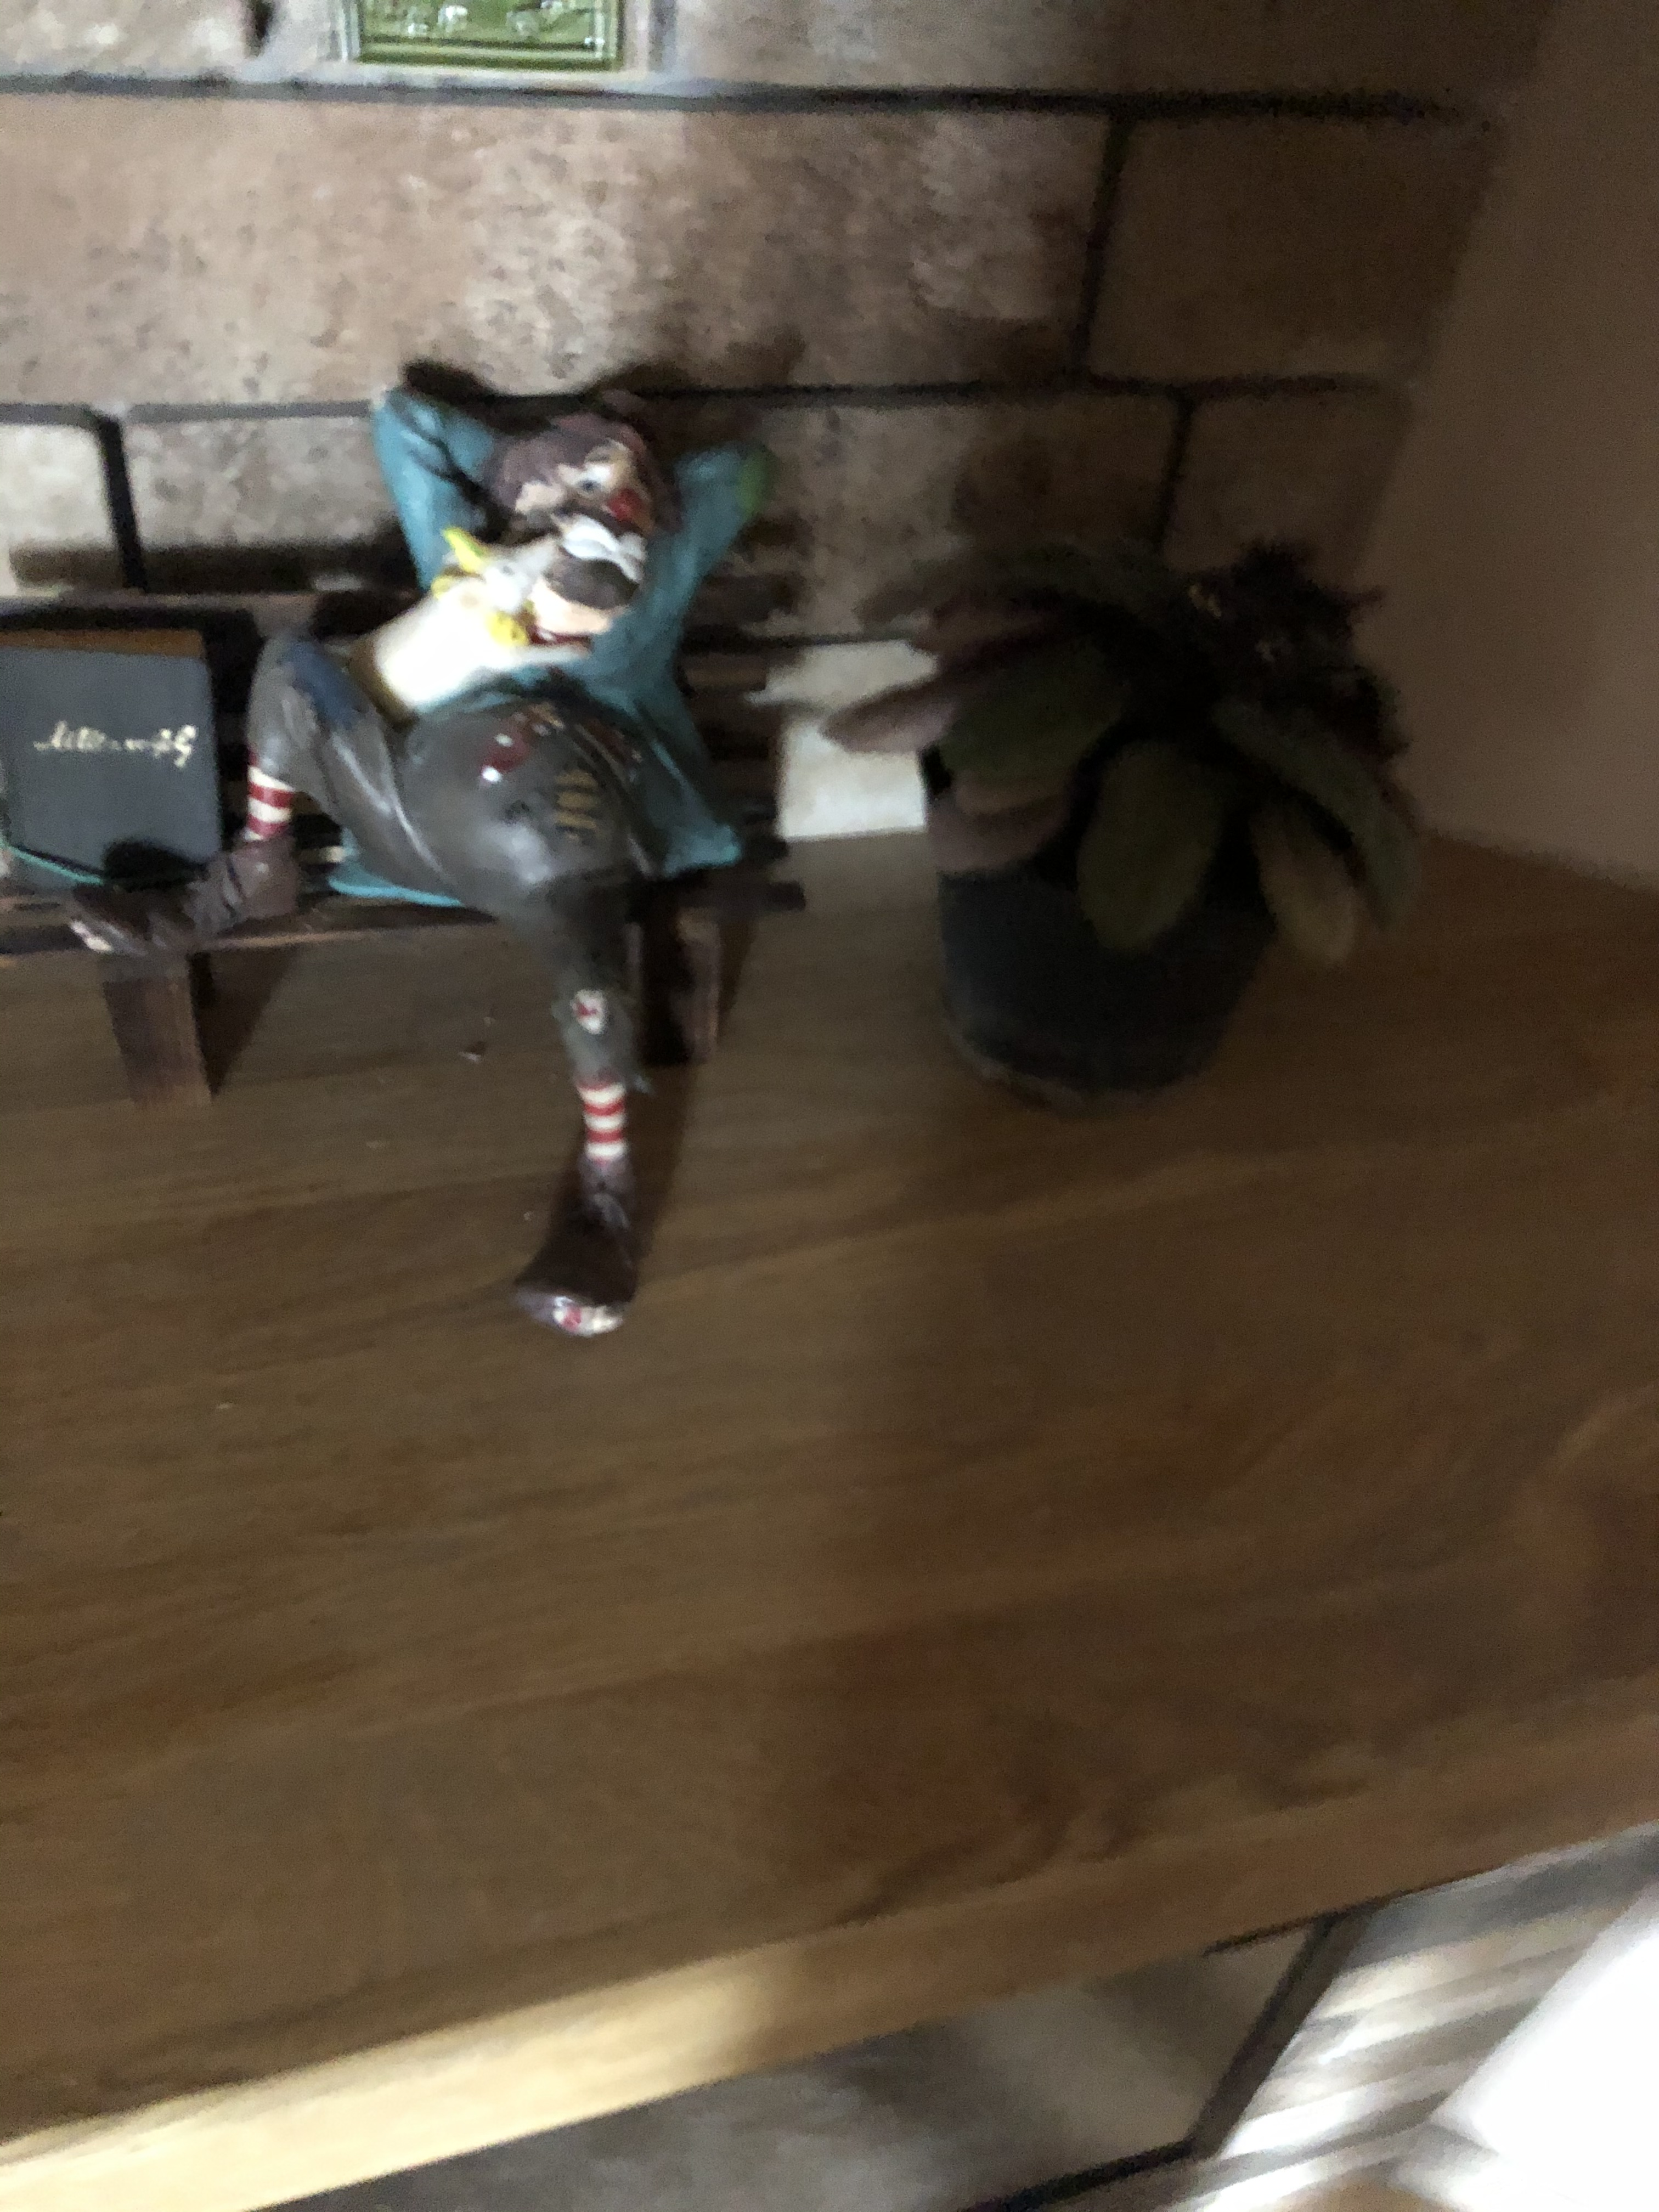ignore: (843, 498, 1476, 970)
